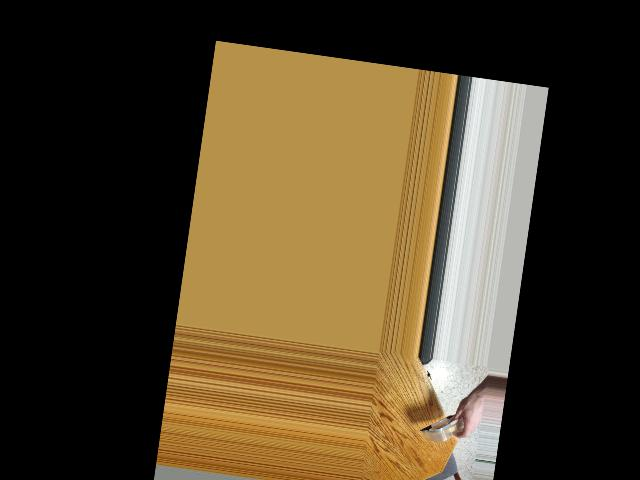cheese: (427, 395, 477, 458)
